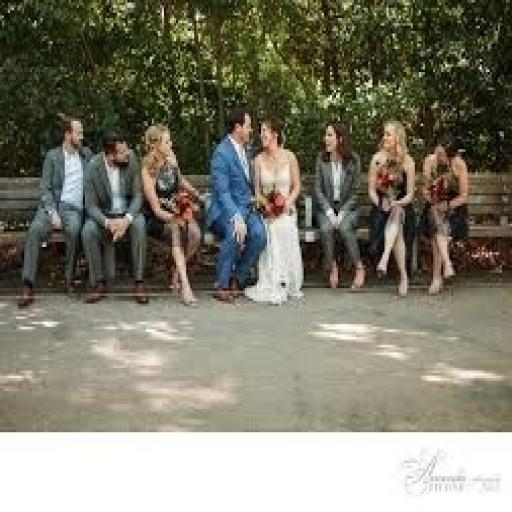sitting: (6, 103, 476, 309), (79, 124, 152, 306)
